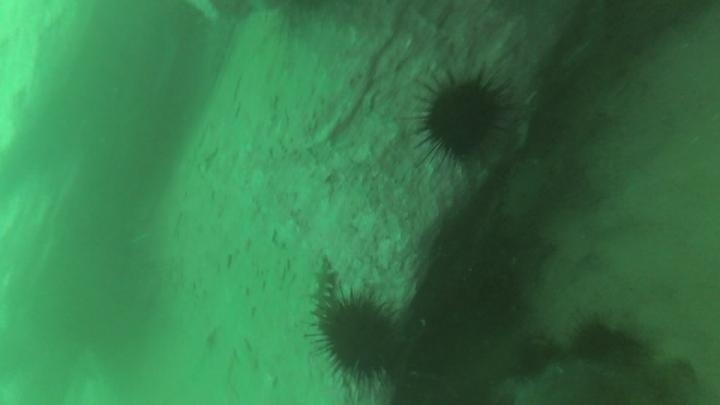echinus: (309, 287, 407, 394), (413, 68, 514, 167), (575, 313, 636, 363)
holothurian: (305, 252, 340, 324), (517, 329, 563, 371)
